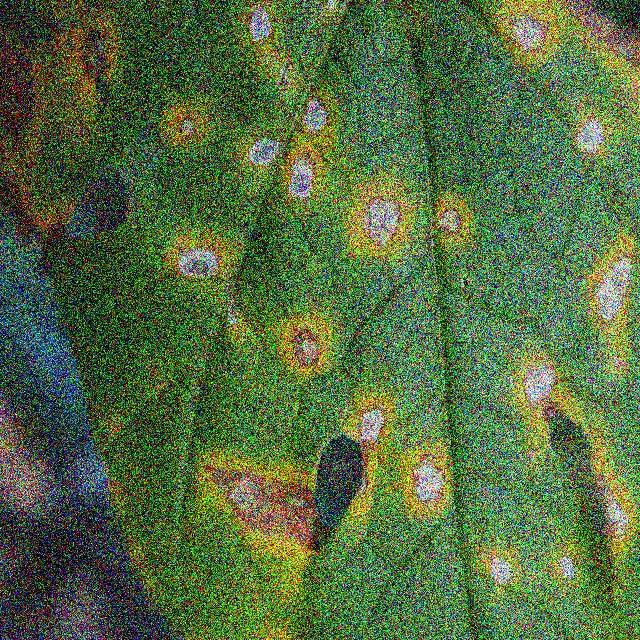shot_hole: (0, 6, 629, 631)
